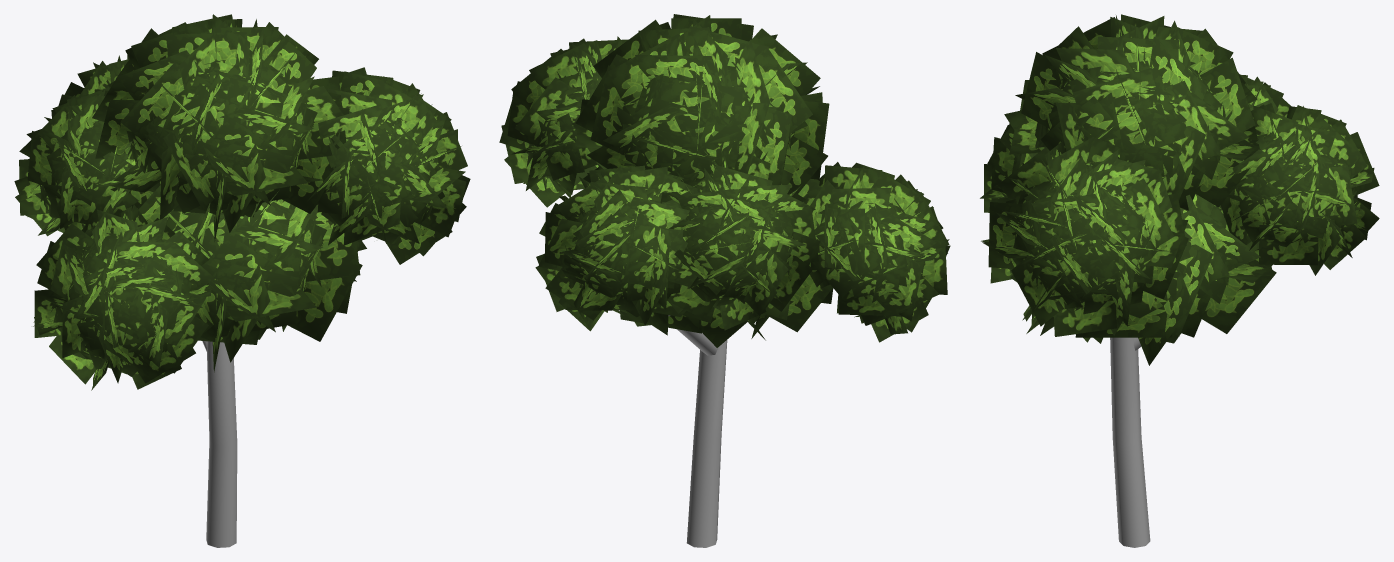
File: tree_1.fbx
The picture shows the model from 3 angles, left to right: view 1: azimuth 30°, elevation 25°; view 2: azimuth 150°, elevation 25°; view 3: azimuth 270°, elevation 25°; orthographic projection.
Parts seen in each view (by area): view 1: tree_1; view 2: tree_1; view 3: tree_1.
Boxes of the visible parts, box(x1,y1,x2,y2) form: tree_1: box(14, 14, 470, 547); tree_1: box(499, 14, 950, 547); tree_1: box(980, 14, 1379, 547).
Bounding box in the file's own units: 1883 × 2200 × 1549.
